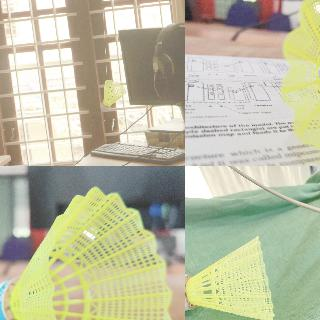shuttlecock: (0, 185, 174, 319), (185, 236, 275, 319), (281, 0, 319, 165), (100, 80, 126, 112)
